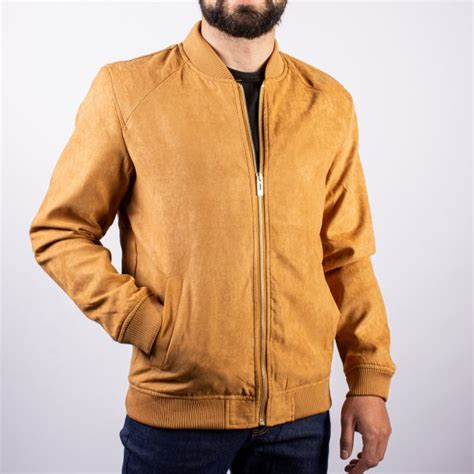gamuza: (30, 44, 395, 398)
